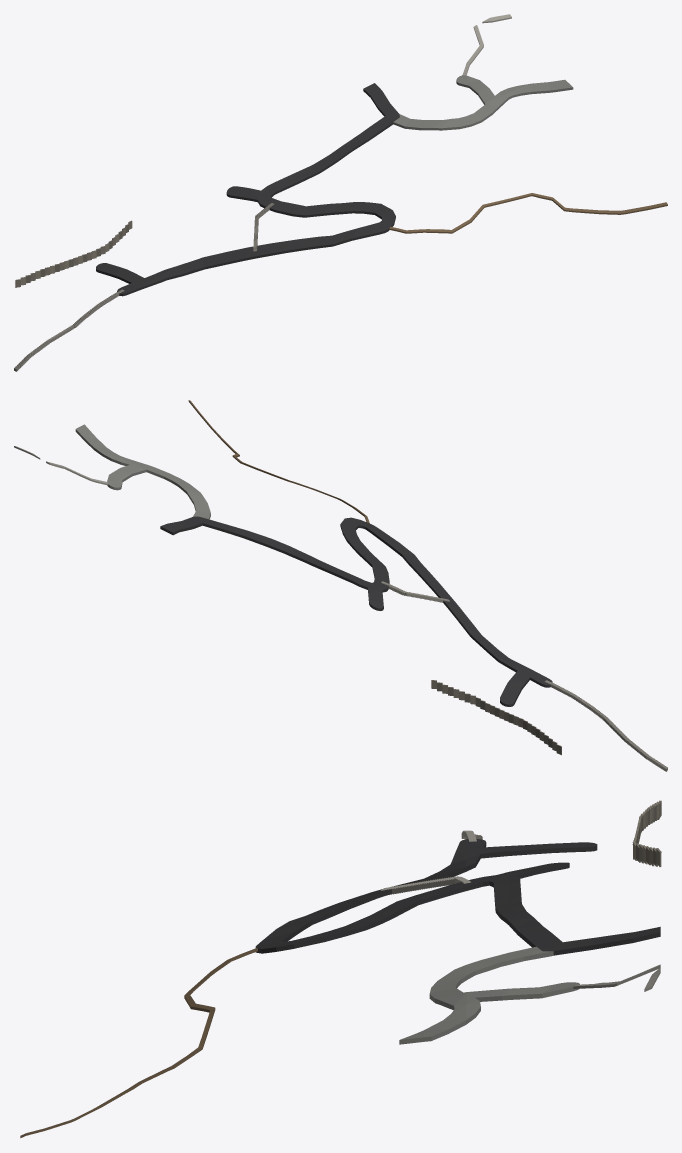
3 renders of one model, top to bottom at view 1: azimuth 30°, elevation 25°; view 2: azimuth 150°, elevation 25°; view 3: azimuth 270°, elevation 25°, orthographic. The views are drawn at different scales.
Size of the model in its own units: 294 by 99.9 by 151.
